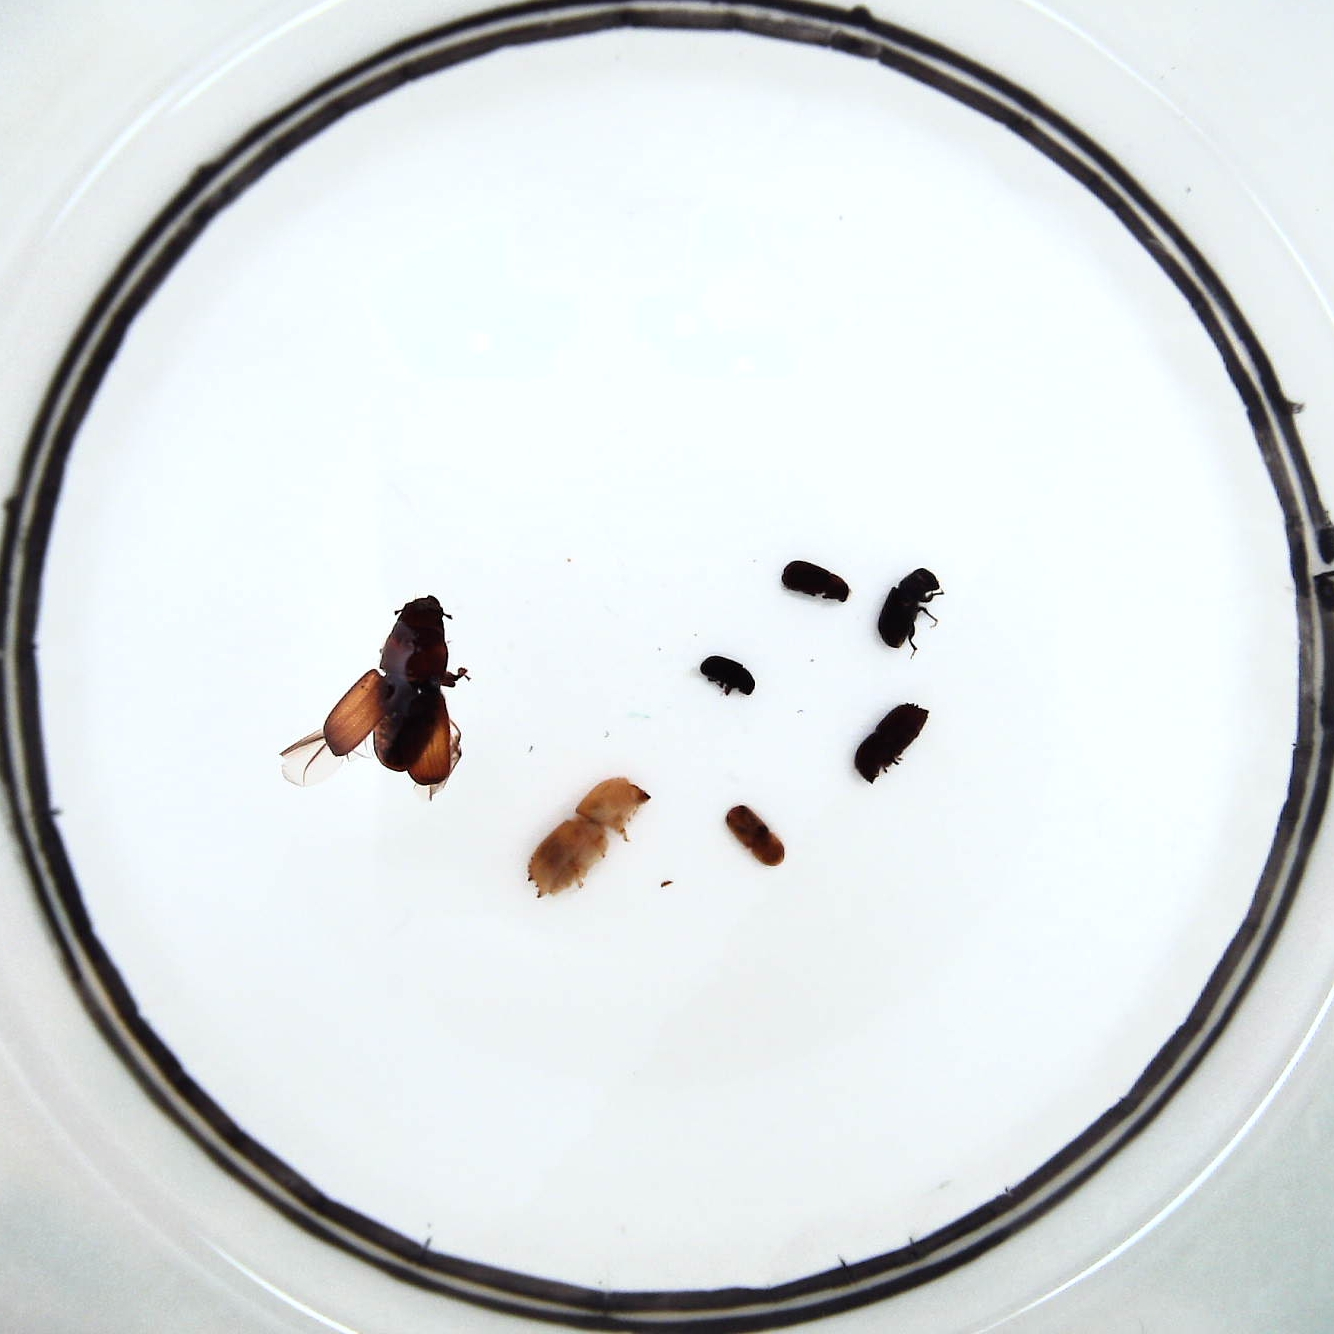Boerner: (527, 779, 647, 899)
Leconte: (310, 591, 461, 779)
Linnaeus: (851, 699, 932, 782)
acuminatus: (722, 796, 783, 865)
armandi: (878, 559, 939, 647)
coleoptera: (783, 559, 844, 603), (700, 647, 751, 699)
